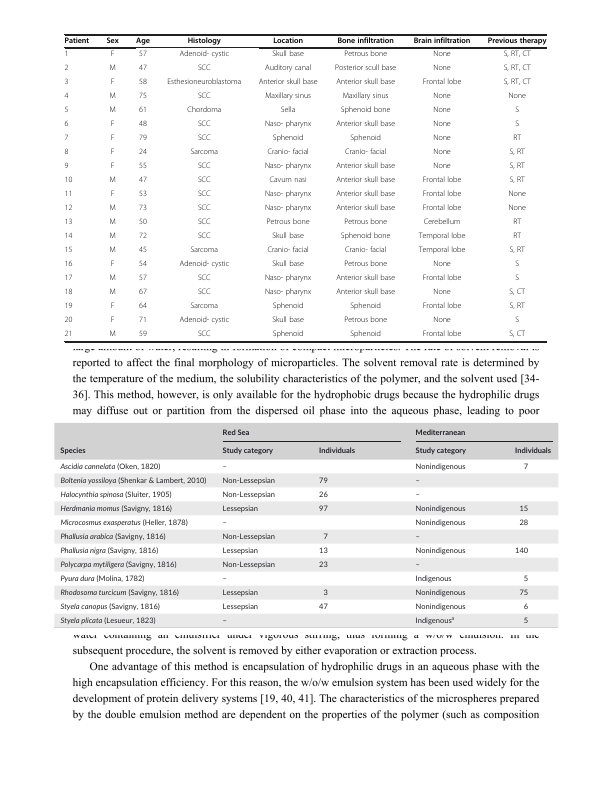borderless: (63, 33, 546, 341), (52, 422, 559, 629)
cell: (59, 475, 206, 487), (59, 517, 188, 529), (59, 587, 179, 599), (59, 559, 177, 571), (59, 489, 172, 501), (59, 503, 172, 515), (59, 531, 166, 543), (59, 461, 160, 473), (59, 601, 160, 613), (59, 545, 158, 557), (59, 615, 156, 627), (59, 573, 144, 585), (166, 78, 242, 88), (414, 426, 465, 439), (221, 475, 275, 487), (221, 489, 275, 501), (221, 531, 275, 543), (221, 559, 275, 571), (334, 64, 397, 74), (221, 445, 273, 457), (414, 445, 466, 457), (414, 461, 466, 473), (414, 503, 466, 515), (414, 517, 466, 529), (414, 545, 466, 557), (414, 587, 466, 599), (414, 601, 466, 613), (335, 78, 396, 88), (335, 120, 396, 130), (335, 162, 396, 172), (335, 176, 396, 186), (335, 190, 396, 200), (335, 204, 396, 214), (335, 274, 396, 284), (335, 288, 396, 298), (258, 78, 318, 88), (487, 37, 547, 46), (336, 37, 395, 46), (413, 37, 471, 46), (178, 50, 230, 60), (178, 260, 230, 270), (178, 316, 230, 326), (414, 614, 454, 627), (340, 106, 391, 116), (340, 232, 391, 242), (264, 64, 312, 74), (264, 92, 312, 102), (264, 120, 312, 130), (264, 162, 312, 172), (264, 190, 312, 200), (264, 204, 312, 214), (418, 232, 466, 242), (418, 246, 466, 256), (264, 274, 312, 284), (264, 288, 312, 298), (342, 92, 389, 102), (414, 573, 452, 585), (343, 50, 388, 60), (343, 218, 388, 228), (343, 260, 388, 270), (343, 316, 388, 326), (221, 503, 258, 515), (221, 545, 258, 557), (221, 587, 258, 599), (221, 601, 258, 613), (266, 148, 310, 158), (266, 218, 310, 228), (266, 246, 310, 256), (344, 148, 387, 158), (344, 246, 387, 256), (422, 78, 462, 88), (268, 176, 308, 186), (422, 176, 462, 186), (422, 190, 462, 200), (422, 204, 462, 214), (422, 274, 462, 284), (422, 302, 462, 312), (422, 330, 462, 340), (423, 218, 461, 228), (221, 426, 250, 439), (186, 106, 222, 116), (271, 50, 305, 60), (271, 232, 305, 242), (271, 260, 305, 270), (271, 316, 305, 326), (349, 134, 382, 144), (349, 302, 382, 312), (349, 330, 382, 340), (59, 445, 86, 457), (272, 134, 304, 144), (272, 302, 304, 312), (272, 330, 304, 340), (187, 37, 222, 46), (317, 447, 355, 455), (513, 447, 551, 455), (189, 148, 219, 158), (189, 246, 219, 256), (189, 302, 219, 312), (503, 50, 532, 60), (503, 64, 532, 74), (503, 78, 532, 88), (272, 37, 304, 46), (64, 37, 90, 46), (432, 50, 452, 60), (432, 64, 452, 74), (432, 92, 452, 102), (507, 92, 527, 102), (432, 106, 452, 116), (432, 120, 452, 130), (432, 134, 452, 144), (432, 148, 452, 158), (432, 162, 452, 172), (507, 190, 527, 200), (507, 204, 527, 214), (432, 260, 452, 270), (432, 288, 452, 298), (432, 316, 452, 326), (508, 288, 526, 298), (508, 330, 526, 340), (509, 148, 526, 158), (509, 162, 526, 172), (509, 176, 526, 186), (509, 246, 526, 256), (509, 302, 526, 312), (280, 106, 296, 116), (135, 37, 151, 46), (197, 64, 211, 74), (197, 92, 211, 102), (197, 120, 211, 130), (197, 134, 211, 144), (197, 162, 211, 172), (197, 176, 211, 186), (197, 190, 211, 200), (197, 204, 211, 214), (197, 218, 211, 228), (197, 232, 211, 242), (197, 274, 211, 284), (197, 288, 211, 298), (197, 330, 211, 340), (105, 37, 120, 46), (317, 475, 328, 487), (317, 489, 328, 501), (317, 503, 328, 515), (513, 548, 528, 555), (138, 50, 148, 60), (138, 64, 148, 74), (138, 78, 148, 88), (138, 92, 148, 102), (138, 106, 148, 116), (138, 120, 148, 130), (138, 134, 148, 144), (512, 134, 522, 144), (138, 148, 148, 158), (138, 162, 148, 172), (138, 176, 148, 186), (138, 190, 148, 200), (138, 204, 148, 214), (138, 218, 148, 228), (512, 218, 522, 228), (138, 232, 148, 242), (512, 232, 522, 242), (138, 246, 148, 256), (138, 260, 148, 270), (138, 274, 148, 284), (138, 288, 148, 298), (138, 302, 148, 312), (138, 316, 148, 326), (138, 330, 148, 340), (108, 64, 117, 74), (108, 92, 117, 102), (108, 106, 117, 116), (64, 176, 73, 186), (108, 176, 117, 186), (64, 190, 73, 200), (64, 204, 73, 214), (108, 204, 117, 214), (64, 218, 73, 228), (108, 218, 117, 228), (64, 232, 73, 242), (108, 232, 117, 242), (64, 246, 73, 256), (108, 246, 117, 256), (64, 260, 73, 270), (64, 274, 73, 284), (108, 274, 117, 284), (64, 288, 73, 298), (108, 288, 117, 298), (64, 302, 73, 312), (64, 316, 73, 326), (64, 330, 73, 340), (108, 330, 117, 340), (317, 548, 328, 555), (317, 562, 328, 569), (317, 604, 328, 611), (522, 601, 528, 613), (518, 506, 528, 513), (518, 520, 528, 527), (518, 590, 528, 597), (514, 106, 520, 116), (514, 120, 520, 130), (514, 260, 520, 270), (514, 274, 520, 284), (514, 316, 520, 326), (64, 50, 69, 60), (110, 50, 115, 60), (64, 64, 69, 74), (64, 78, 69, 88), (110, 78, 115, 88), (64, 92, 69, 102), (64, 106, 69, 116), (64, 120, 69, 130), (110, 120, 115, 130), (64, 134, 69, 144), (110, 134, 115, 144), (64, 148, 69, 158), (110, 148, 115, 158), (64, 162, 69, 172), (110, 162, 115, 172), (110, 190, 115, 200), (110, 260, 115, 270), (110, 302, 115, 312), (110, 316, 115, 326), (221, 464, 227, 471), (522, 464, 528, 471), (414, 478, 420, 485), (414, 492, 420, 499), (221, 520, 227, 527), (322, 534, 328, 541), (414, 534, 420, 541), (414, 562, 420, 569), (221, 576, 227, 583), (522, 576, 528, 583), (322, 590, 328, 597), (221, 618, 227, 625), (522, 618, 528, 625)
